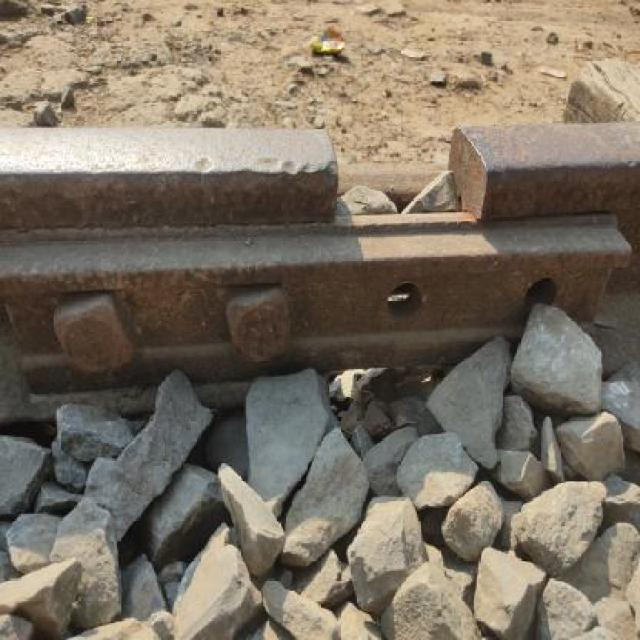defective: (167, 17, 596, 301)
